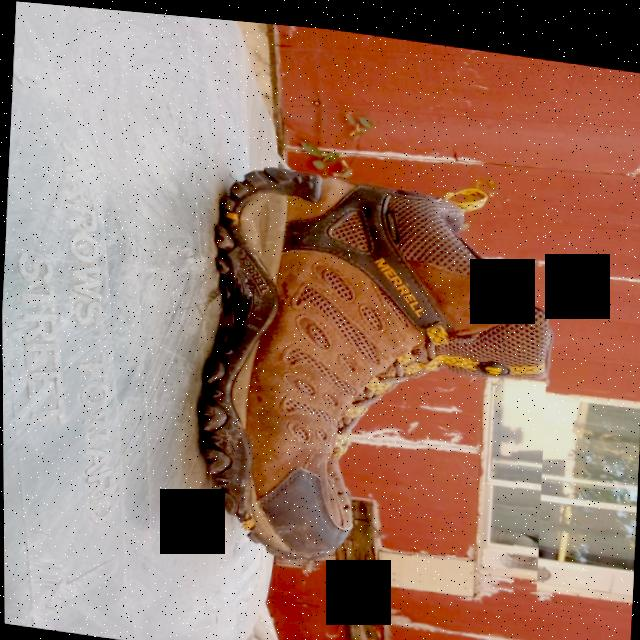shoe: (188, 153, 556, 594)
